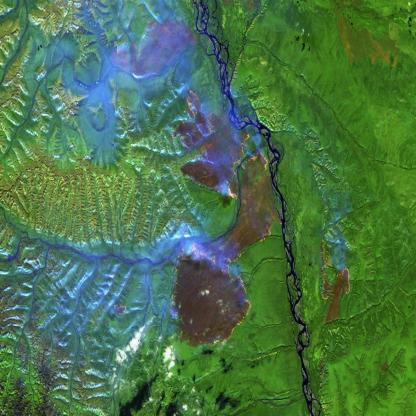fire: (168, 84, 286, 353), (316, 254, 359, 306), (108, 295, 134, 323)
